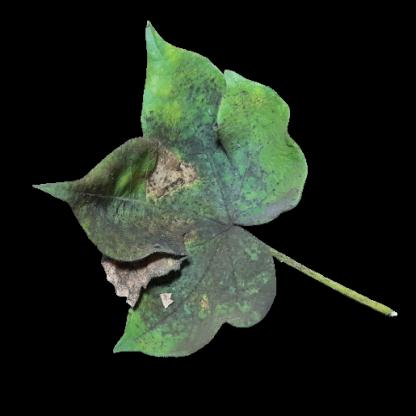curl_stage1: (147, 61, 181, 115)
sooty: (129, 208, 271, 329)
